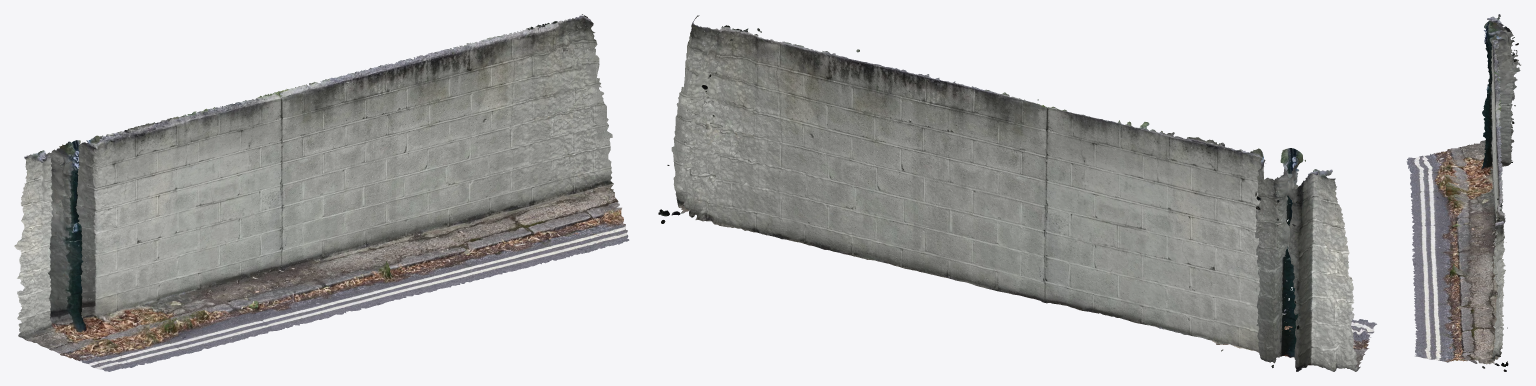
File: cmu-block-wall.glb
The picture shows the model from 3 angles, left to right: view 1: azimuth 30°, elevation 25°; view 2: azimuth 150°, elevation 25°; view 3: azimuth 270°, elevation 25°; orthographic projection. The views are drawn at different scales.
Visible parts, largest first — view 1: Object_2, Object_3; view 2: Object_2, Object_3; view 3: Object_2, Object_3.
Boxes of the visible parts, x1,y1,x2,y2 form: Object_2: (14,20,629,371); Object_3: (31,14,624,358); Object_2: (673,25,1376,371); Object_3: (658,15,1343,368); Object_2: (1406,14,1520,363); Object_3: (1411,26,1518,371).
Size of the model in its own units: 8.17 by 2.51 by 1.76.
Materials: 1 (1 with a texture image).
